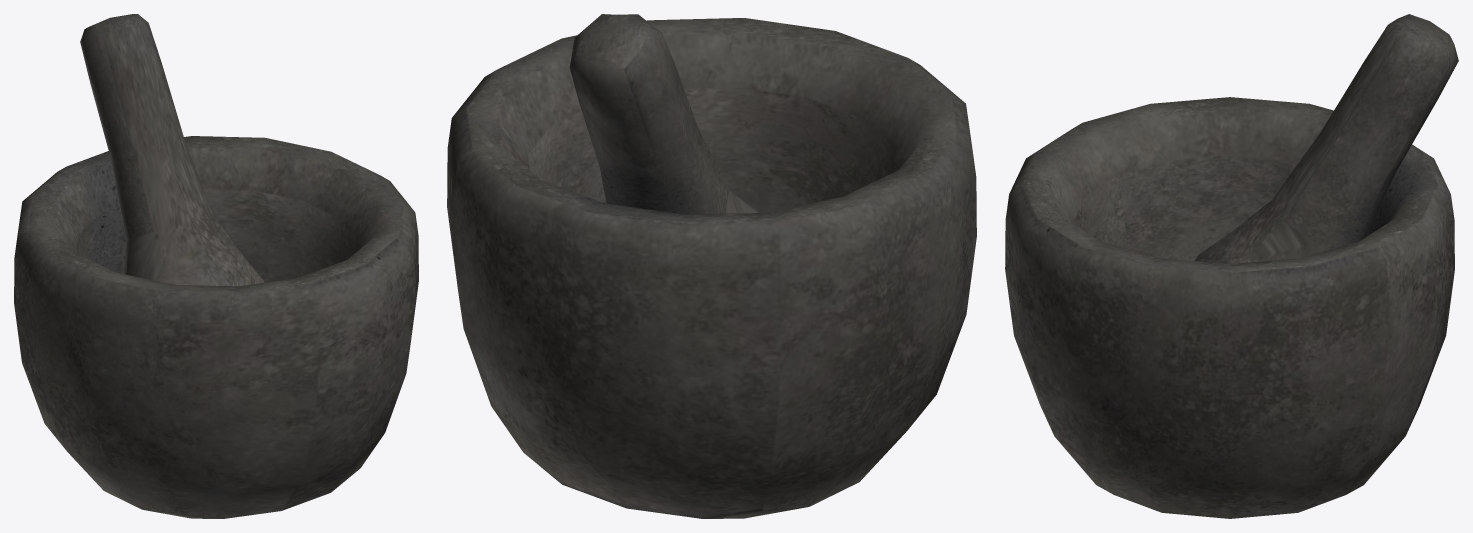
File: mortar_and_pestle.glb
3 views of the same model, side by side, from view 1: azimuth 30°, elevation 25°; view 2: azimuth 150°, elevation 25°; view 3: azimuth 270°, elevation 25° (orthographic). The views are drawn at different scales.
Parts seen in each view (by area): view 1: Cube; view 2: Cube; view 3: Cube.
Boxes of the visible parts, x1,y1,x2,y2 form: Cube: (14,14,418,518); Cube: (447,14,976,518); Cube: (1005,14,1458,518).
Bounding box in the file's own units: 1.79 × 2 × 1.8.
Materials: 1 (1 with a texture image).
